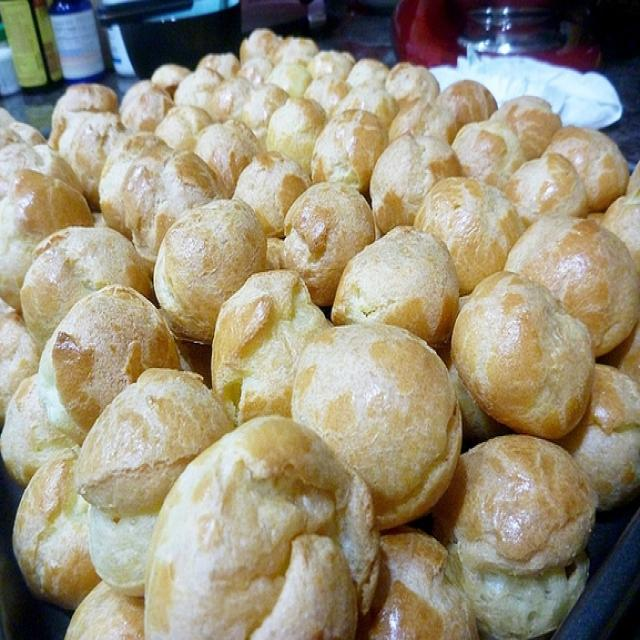炸货点心: (1, 21, 629, 625)
蛋糕甜品: (1, 21, 629, 625)
